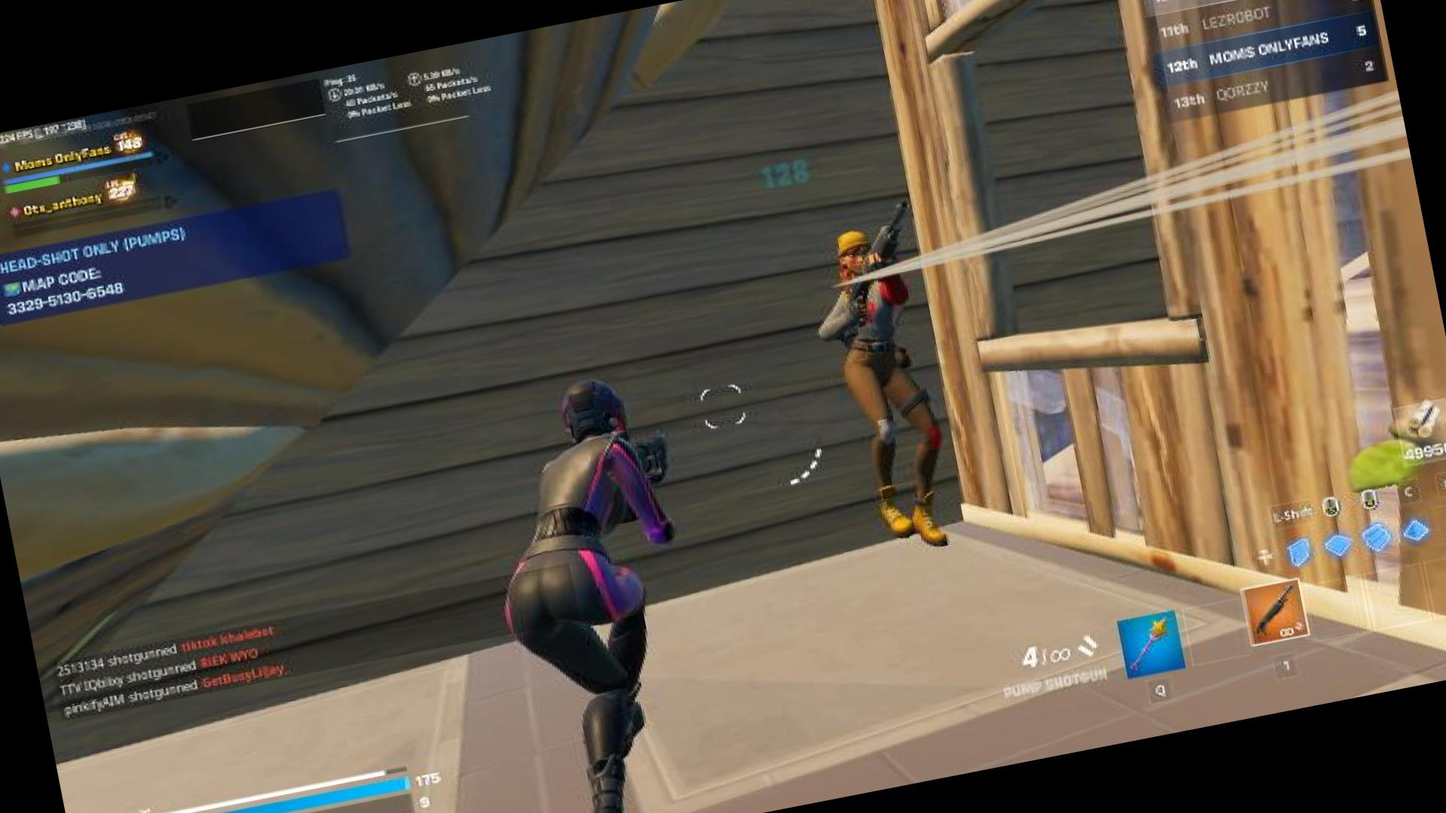player: (798, 198, 967, 566)
